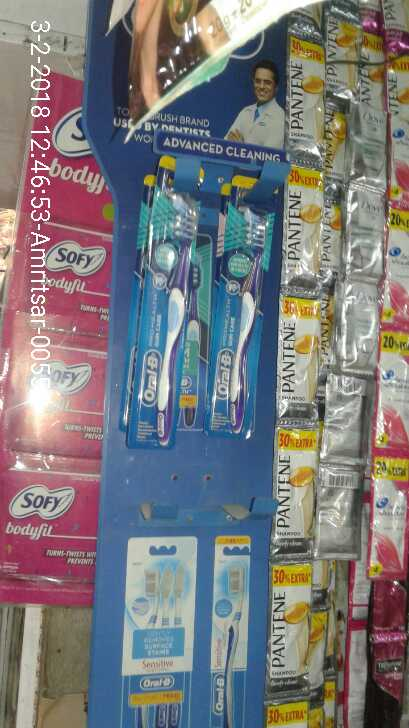beauty: (284, 30, 333, 161), (275, 298, 322, 428), (277, 421, 317, 545), (275, 557, 310, 685), (284, 172, 322, 285)
pharmacy: (139, 184, 194, 449), (213, 195, 263, 443)
